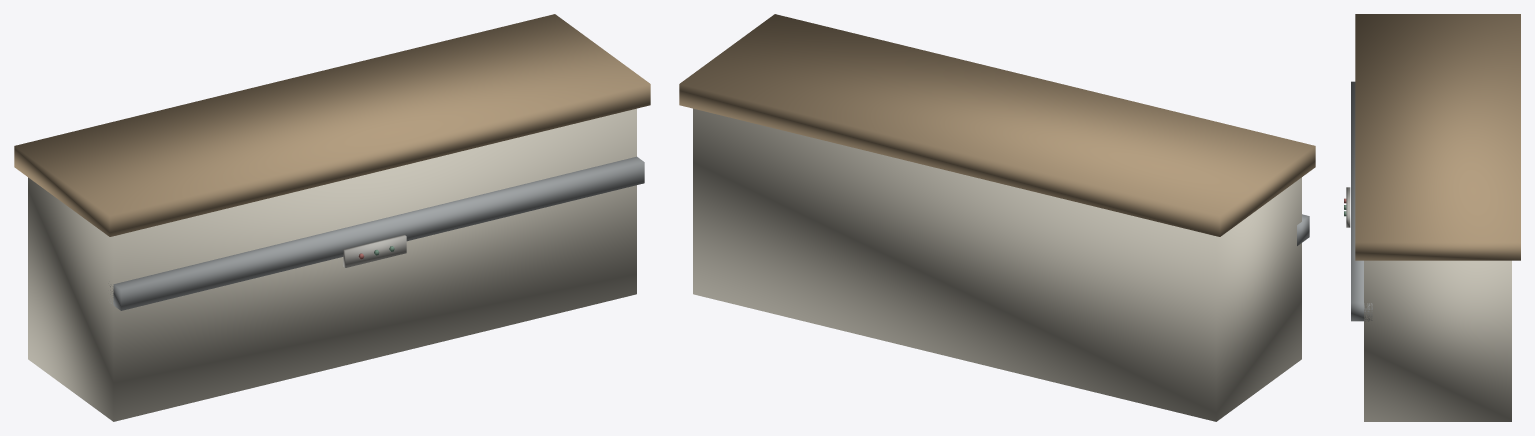
File: diner_counter__tall.glb
3 renders of one model, left to right at view 1: azimuth 30°, elevation 25°; view 2: azimuth 150°, elevation 25°; view 3: azimuth 270°, elevation 25°, orthographic. The views are drawn at different scales.
Visible parts, largest first — view 1: world; view 2: world; view 3: world.
Boxes of the visible parts, x1,y1,x2,y2 form: world: (14,14,650,421); world: (679,14,1315,421); world: (1344,14,1520,421).
Size of the model in its own units: 2.48 by 0.928 by 0.811.
